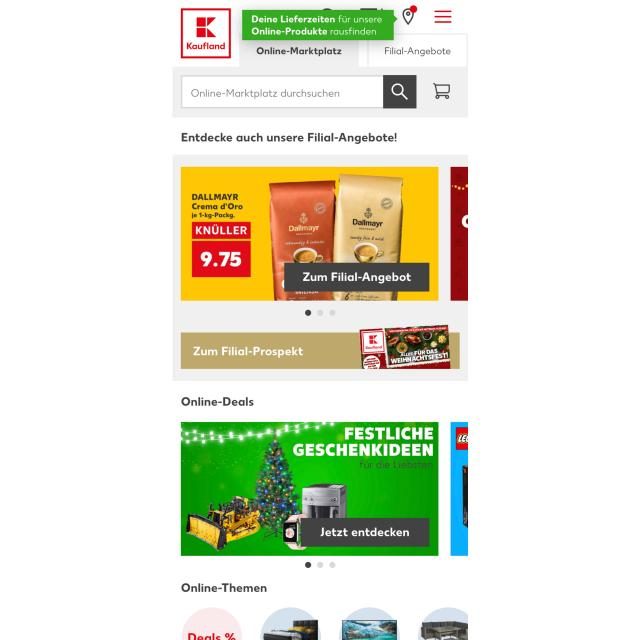CheckBox: (384, 74, 416, 108)
CheckedTextView: (181, 75, 417, 110)
Switch: (178, 418, 468, 575), (180, 163, 468, 321)
bag: (173, 0, 469, 119)
breadcrumbs: (176, 129, 402, 149), (179, 579, 269, 595), (178, 393, 256, 409)
carousel: (429, 77, 453, 103), (388, 82, 412, 102)
copy: (180, 166, 439, 301), (180, 422, 438, 556)
date picker: (178, 6, 233, 62)
decoration: (430, 6, 457, 27)
footer: (188, 85, 346, 100)
icon: (238, 34, 468, 70)
